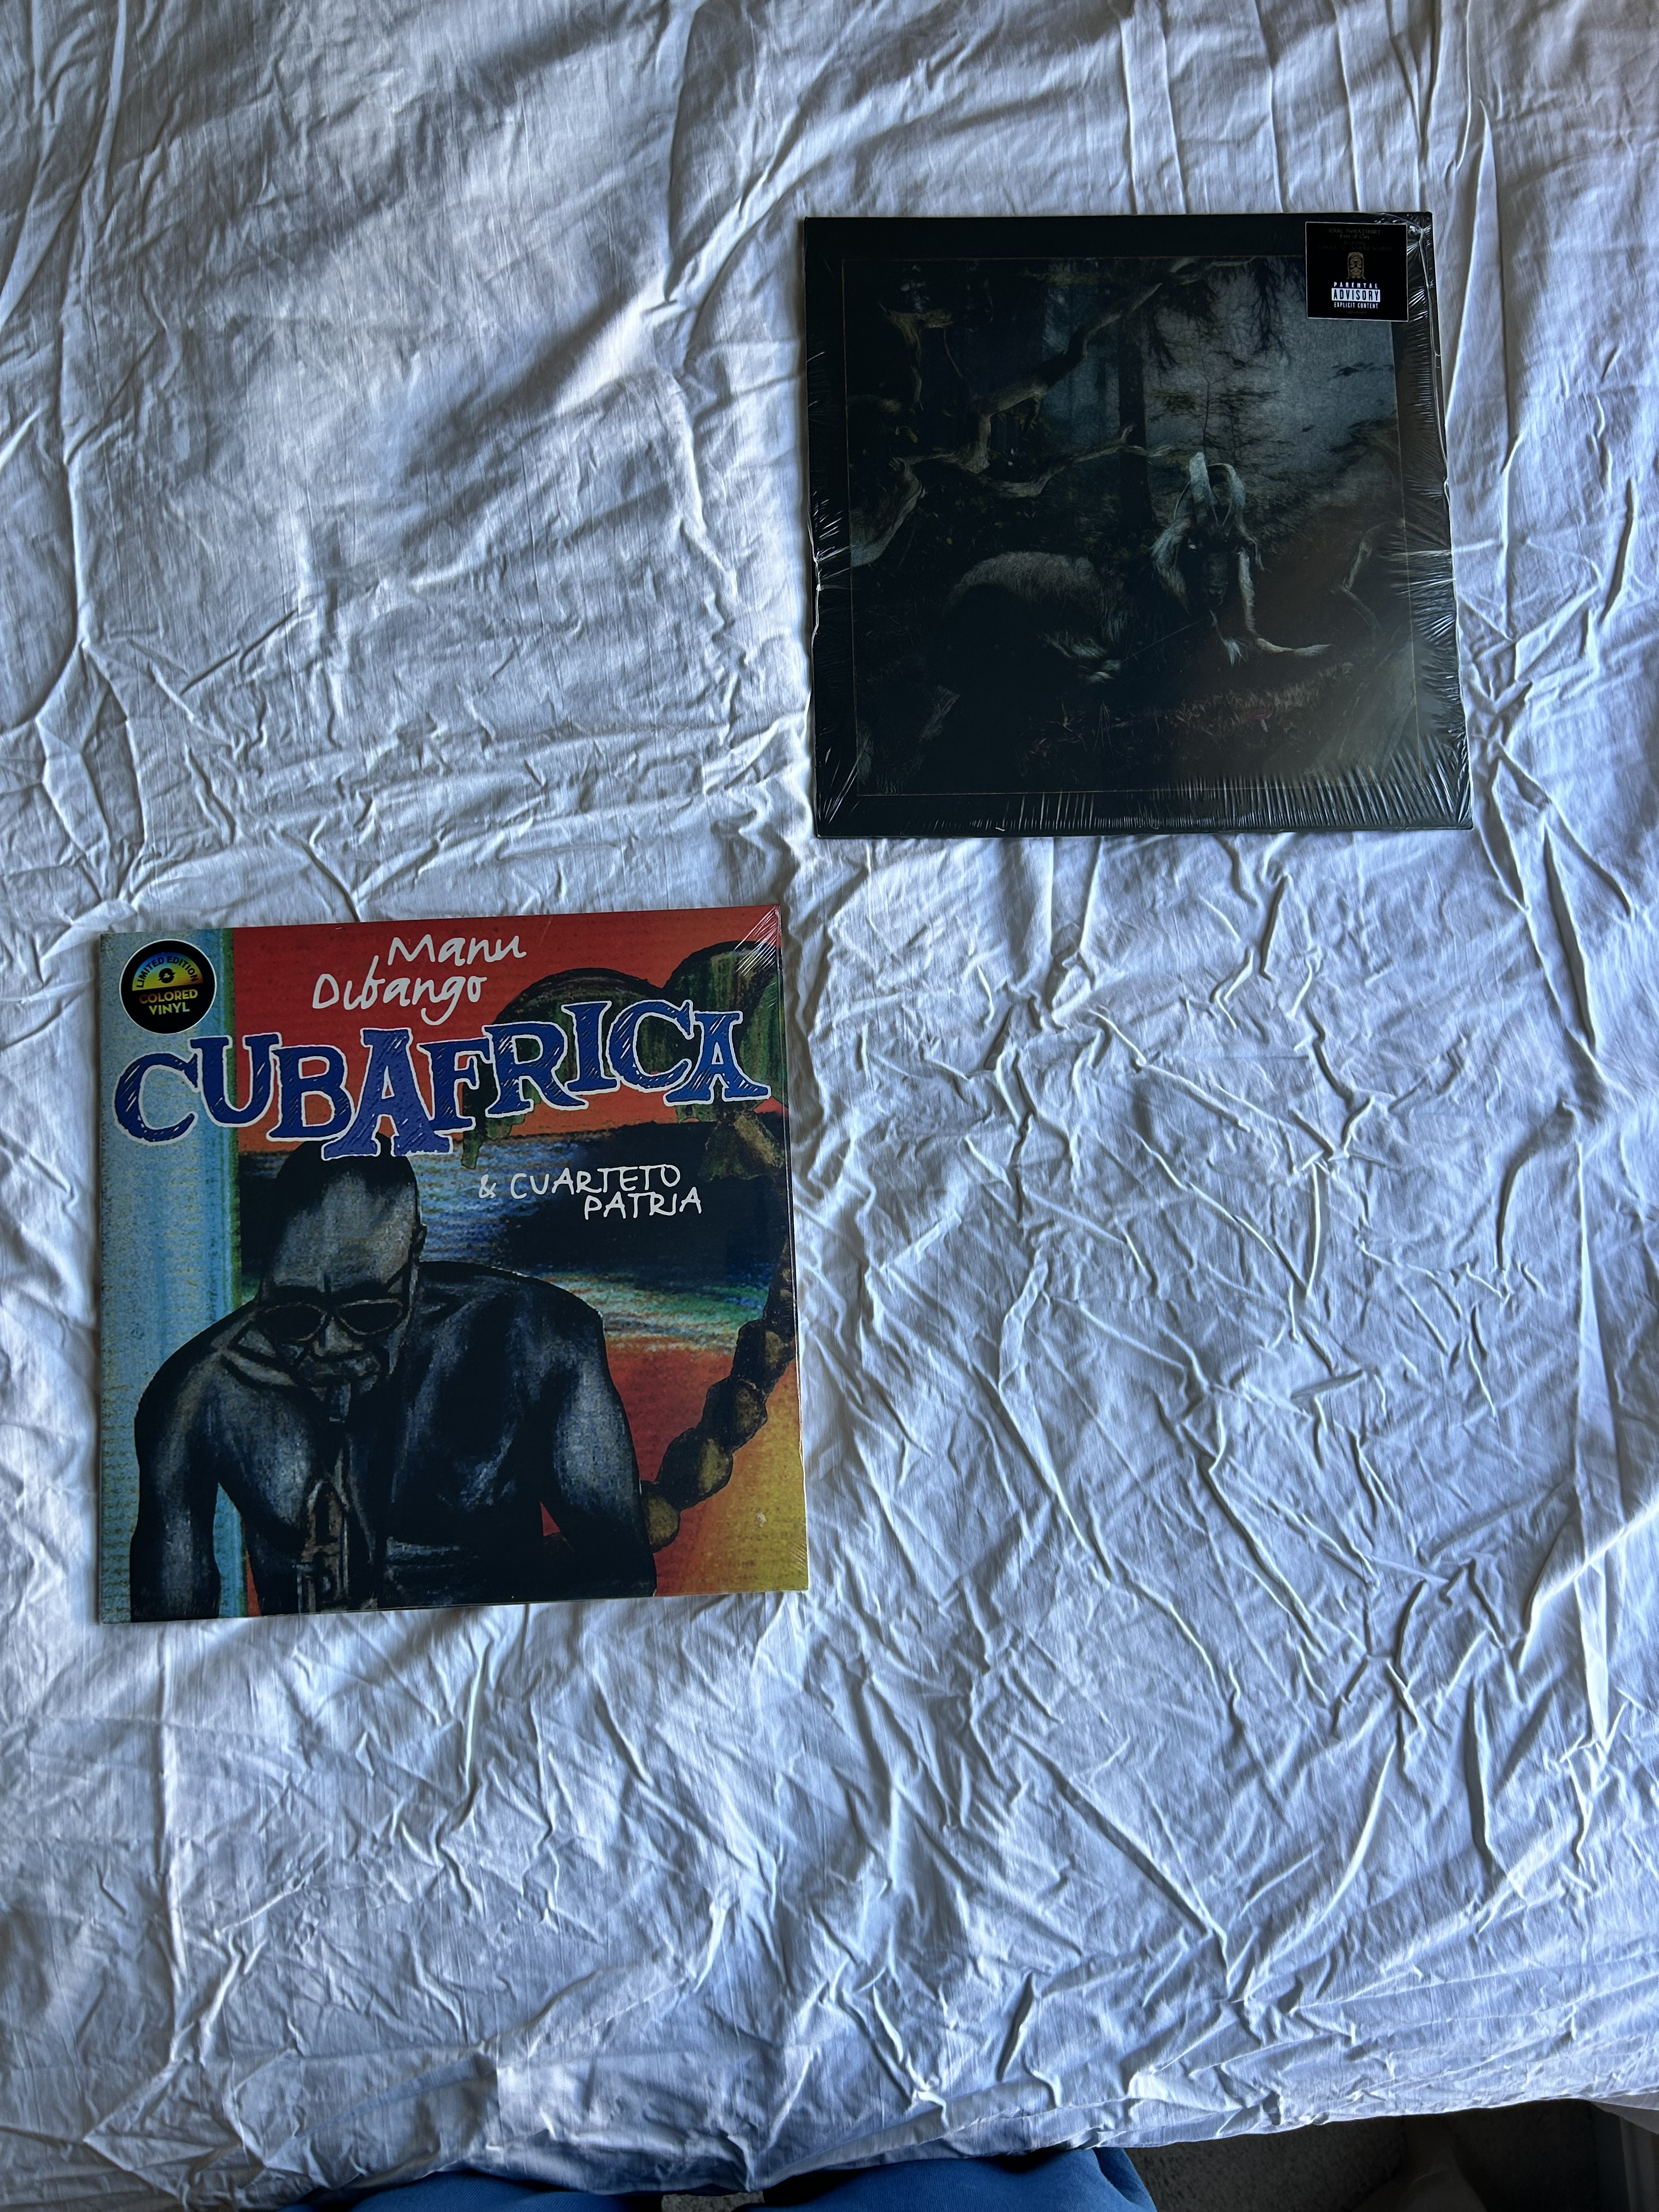earl sweatchirt_feet of clay: (789, 207, 1490, 850)
manu dibango_cubafrica: (68, 920, 803, 1620)
